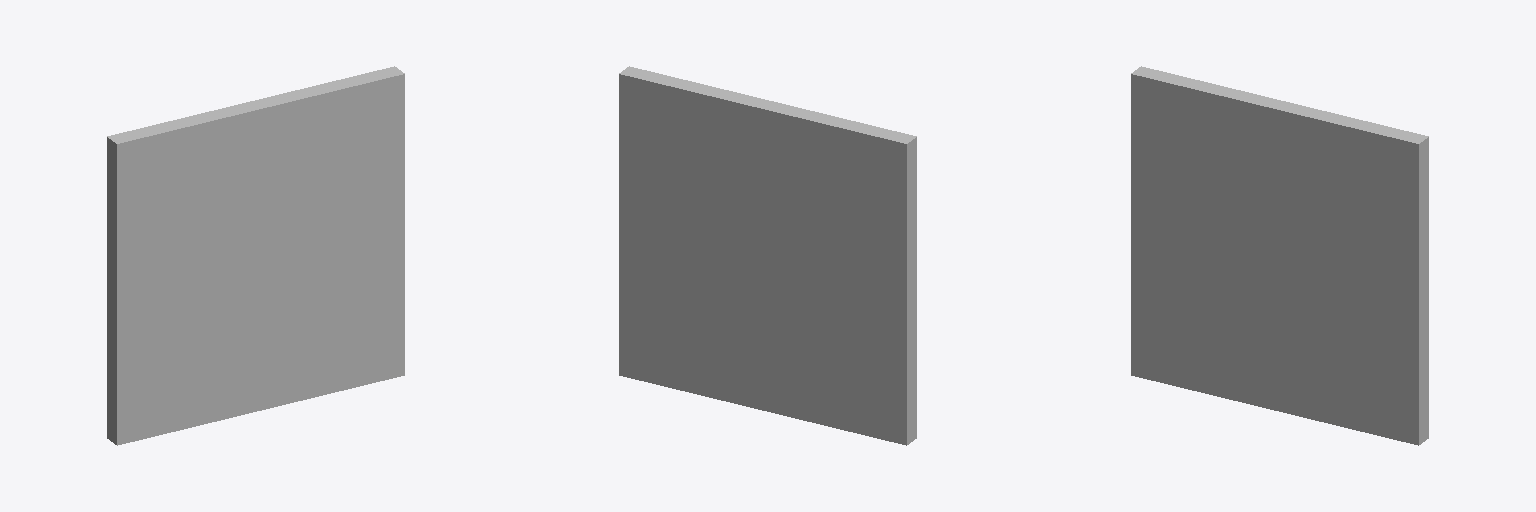
Rendered from Tooltip.obj.
3 renders of one model, left to right at view 1: azimuth 30°, elevation 25°; view 2: azimuth 150°, elevation 25°; view 3: azimuth 330°, elevation 25°, orthographic.
Visible parts, largest first — view 1: Object.1; view 2: Object.1; view 3: Object.1.
Boxes of the visible parts, box(x1,y1,x2,y2) form: Object.1: box(107, 66, 404, 445); Object.1: box(619, 66, 916, 445); Object.1: box(1131, 66, 1428, 445).
Size of the model in its own units: 40 by 40 by 2.5.